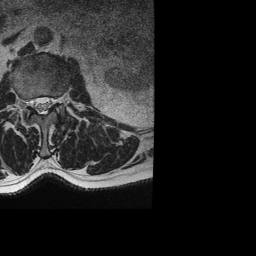CCS_normal: (38, 88, 45, 120)
LFS_normal: (52, 89, 59, 110)
LLS_normal: (45, 89, 51, 116)
RFS_normal: (23, 91, 30, 112)
RLS_normal: (31, 90, 38, 115)
